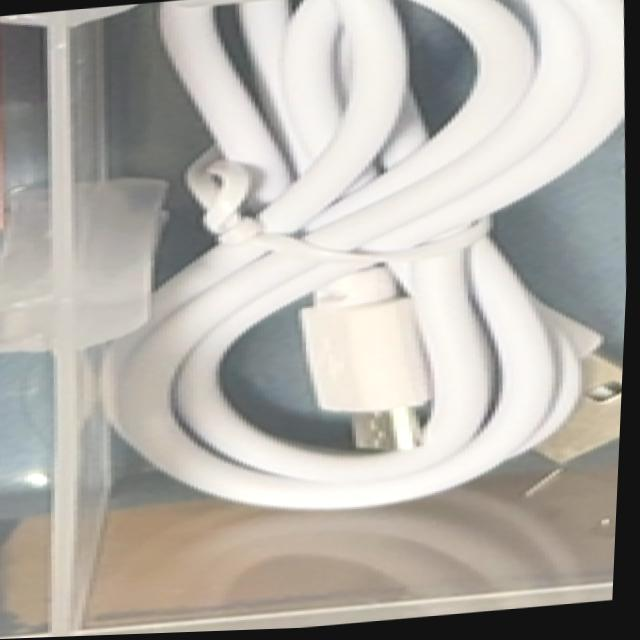USB: (65, 0, 640, 538)
